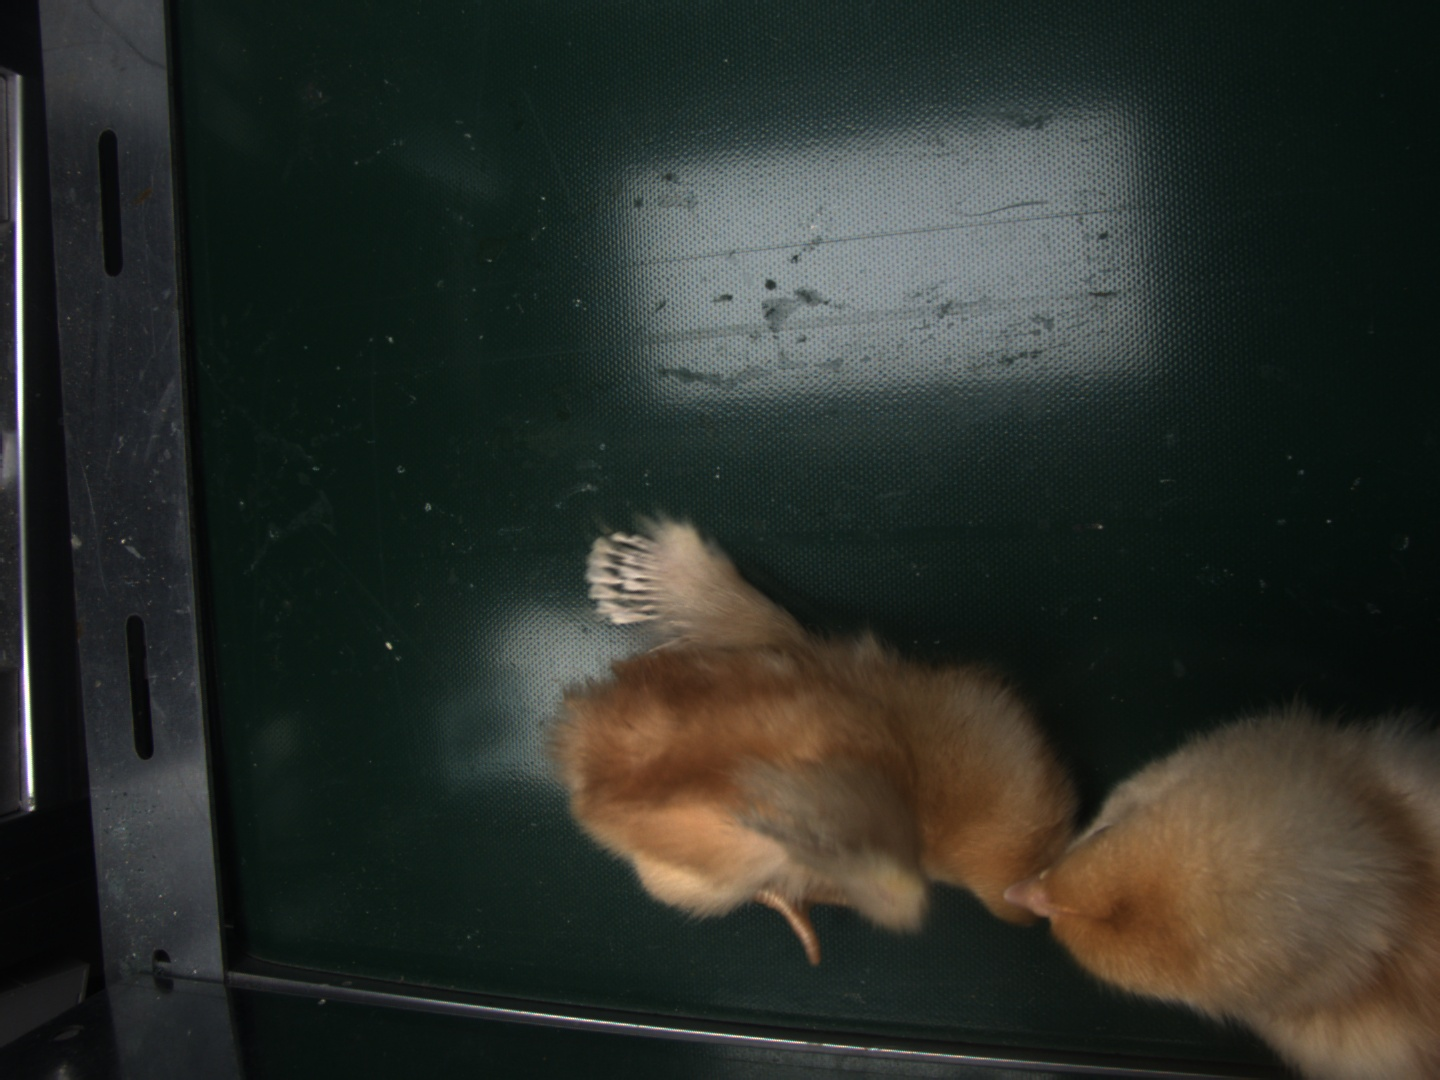female: (586, 535, 664, 623)
